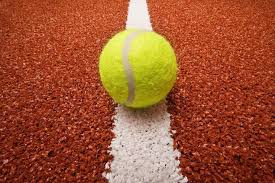tennis_ball: (98, 29, 177, 109)
